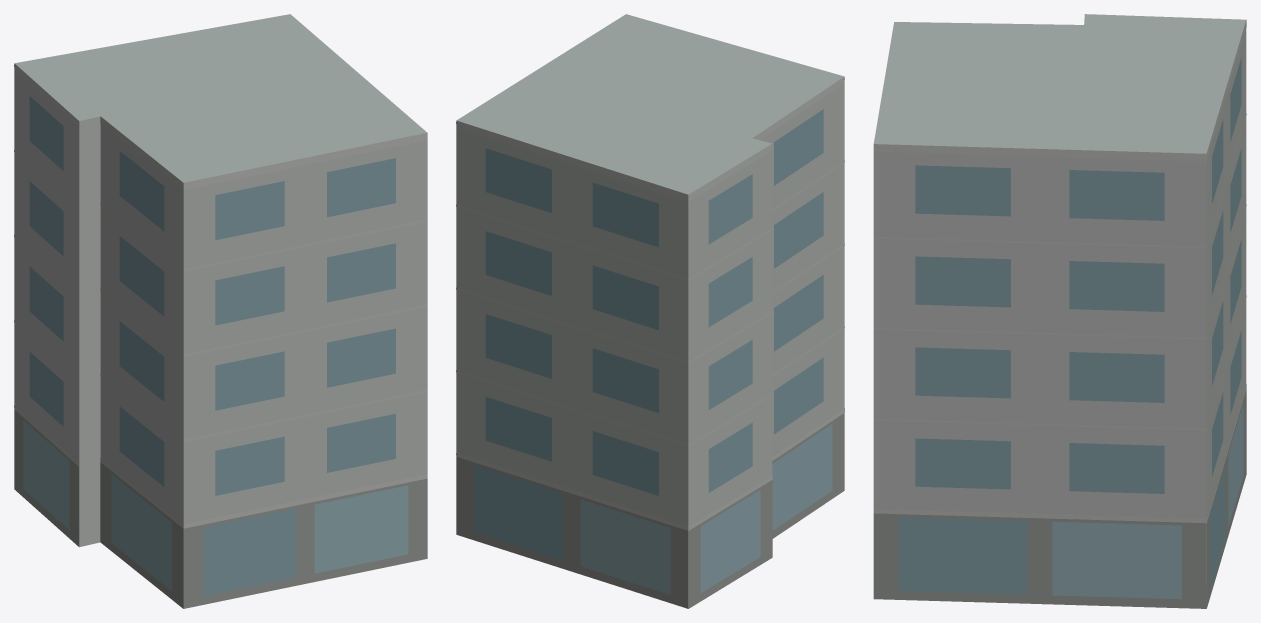
File: survey-upis-32728700.glb
3 views of the same model, side by side, from view 1: azimuth 30°, elevation 25°; view 2: azimuth 150°, elevation 25°; view 3: azimuth 270°, elevation 25° (orthographic). The views are drawn at different scales.
Parts seen in each view (by area): view 1: survey-upis-32728700.tmp; view 2: survey-upis-32728700.tmp; view 3: survey-upis-32728700.tmp.
Part boxes in pixels (box(x1,y1,x2,y2)): survey-upis-32728700.tmp: box(14, 14, 427, 608); survey-upis-32728700.tmp: box(456, 14, 844, 608); survey-upis-32728700.tmp: box(873, 14, 1246, 608).
Bounding box in the file's own units: 9.25 × 14 × 10.42.
